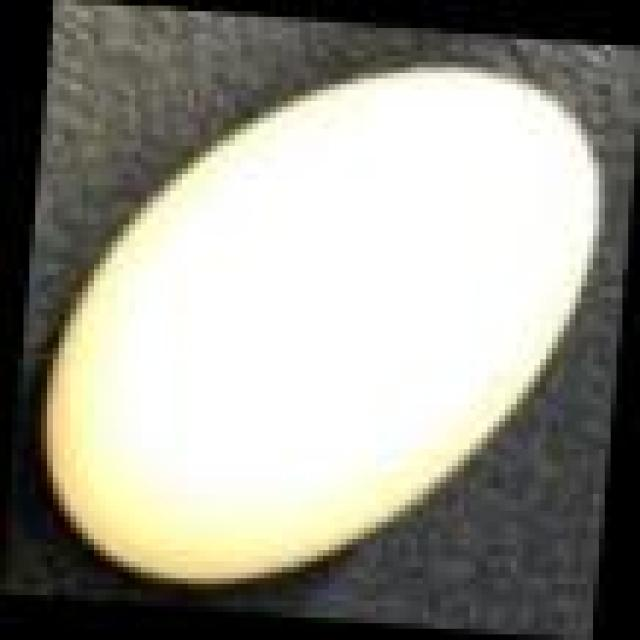Egg: (22, 39, 617, 609)
